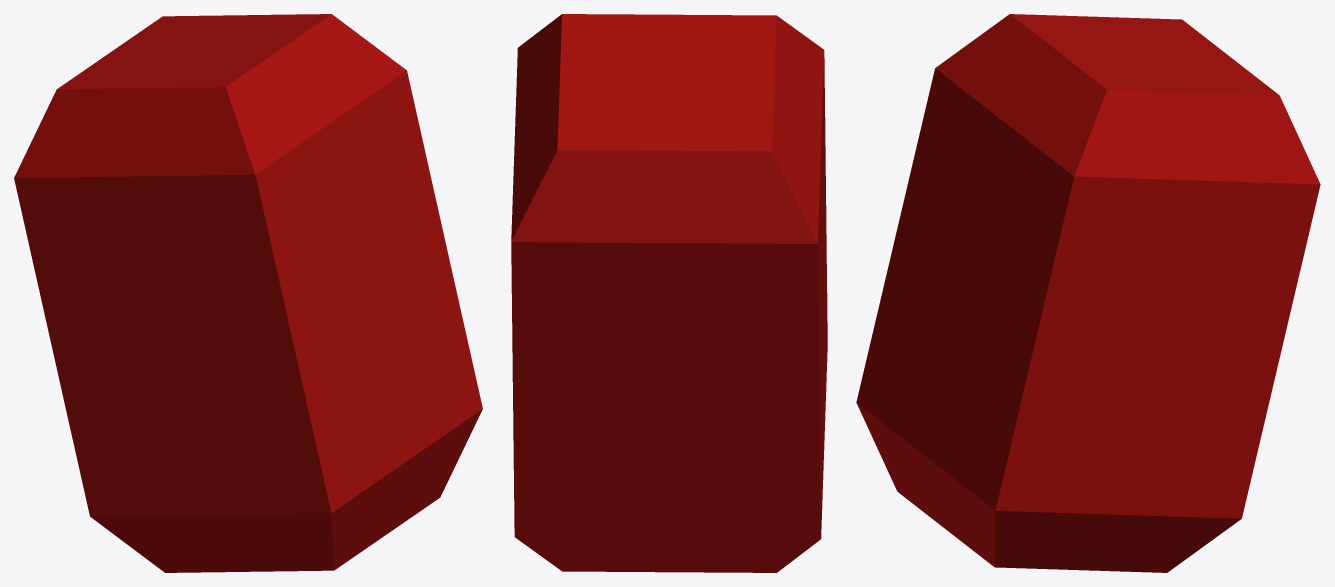
The model's file is town_jewel0002.obj.
3 renders of one model, left to right at view 1: azimuth 30°, elevation 25°; view 2: azimuth 150°, elevation 25°; view 3: azimuth 270°, elevation 25°, orthographic. The views are drawn at different scales.
Parts seen in each view (by area): view 1: RedJewel; view 2: RedJewel; view 3: RedJewel.
Boxes of the visible parts, x1,y1,x2,y2 form: RedJewel: [14, 14, 482, 572]; RedJewel: [511, 14, 827, 572]; RedJewel: [856, 14, 1320, 572].
Size of the model in its own units: 0.9518 by 1.21 by 1.02.
